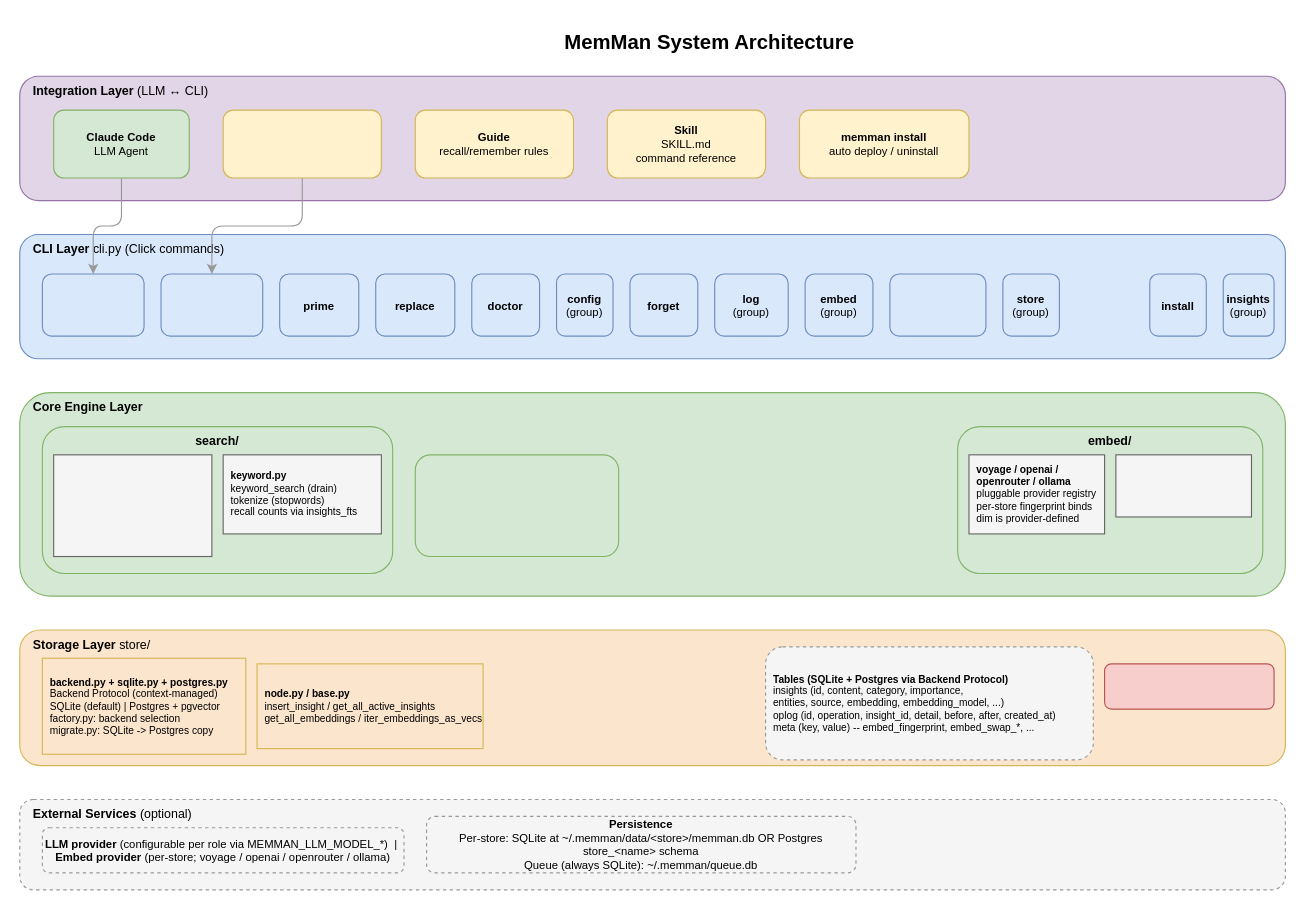
Some shapes in this 1305 by 910 pixel diagram are drawn without their labels. The centre of each missing label's shape, as x and y in pixels:
"graph/engine.py link_pending (enrichment pass)" goes at (x=516, y=505).
"Hooks Prime / Remind Compact / Recall / ExitPlan" goes at (x=301, y=143).
"recall (smart default)" goes at (x=211, y=304).
"recall.py intent_aware_recall" goes at (x=132, y=505).
"remember" goes at (x=92, y=304).
"status" goes at (x=937, y=304).
"Uncapped no automatic deletion" goes at (x=1188, y=686).
"vector.py cosine_similarity serialize_vector / deserialize_vector" goes at (x=1183, y=485).
